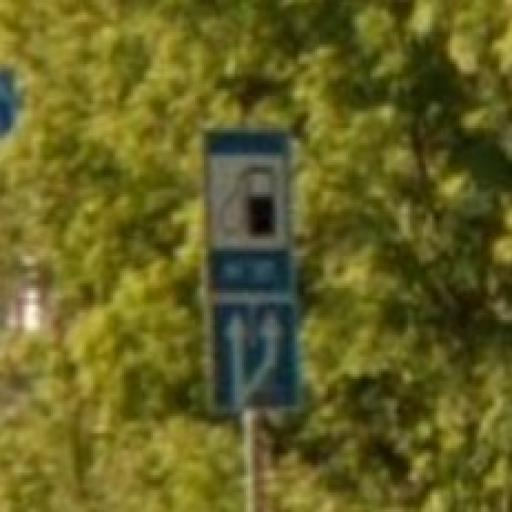traffic_sign: (200, 126, 296, 299)
